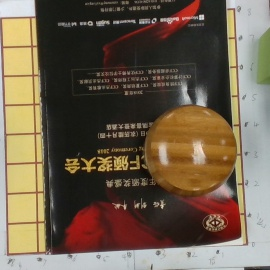cup: (144, 103, 238, 198)
